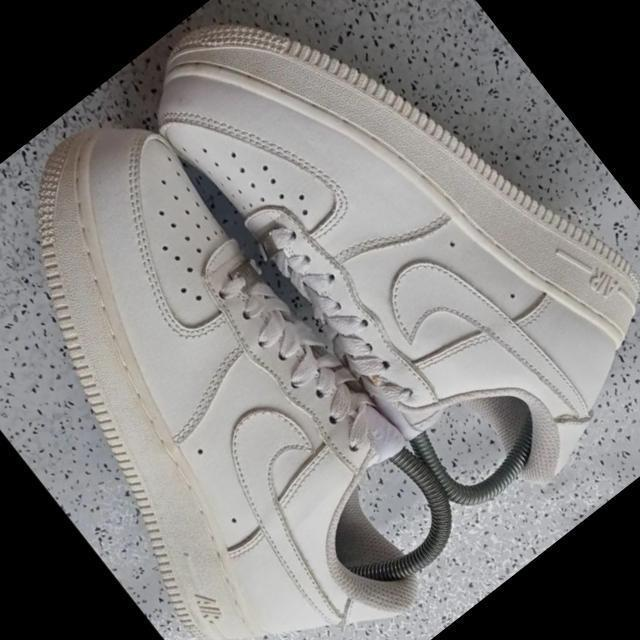nike original air force: (117, 0, 640, 541), (0, 78, 495, 640)
